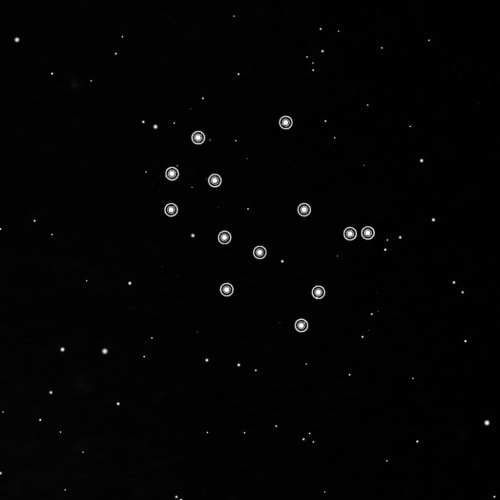gemini: (155, 111, 377, 336)
